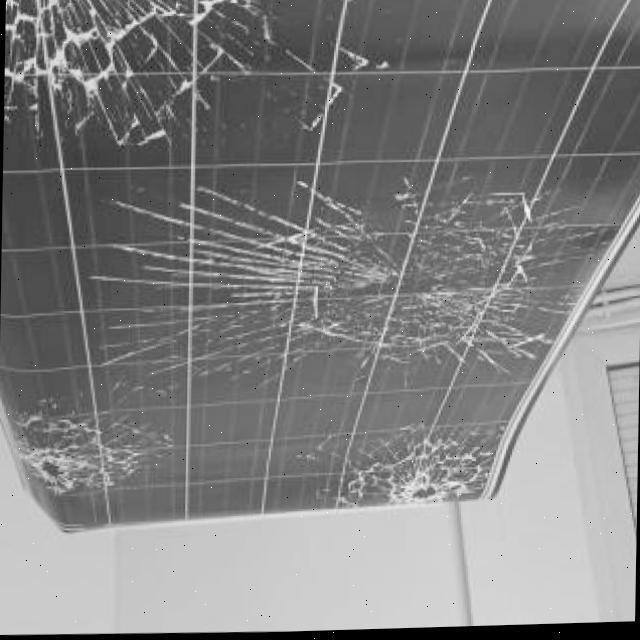Structural Damage: (81, 159, 640, 412), (3, 0, 392, 153), (290, 425, 508, 514), (3, 398, 180, 504)
